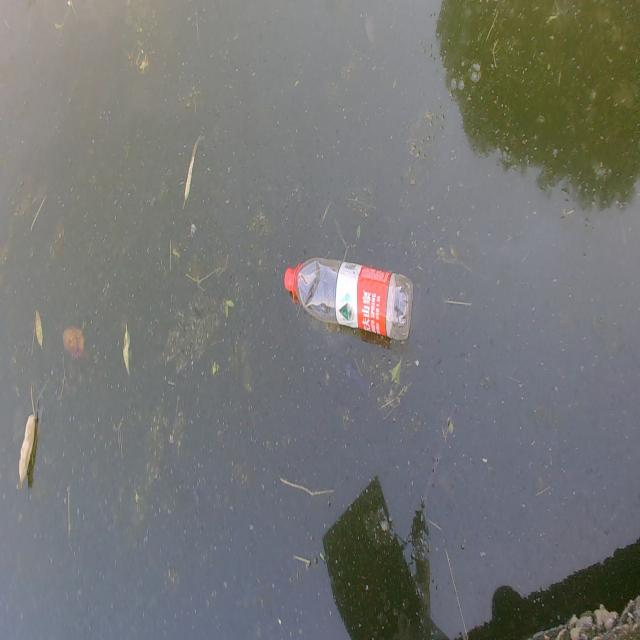Bottle: (278, 249, 415, 348)
